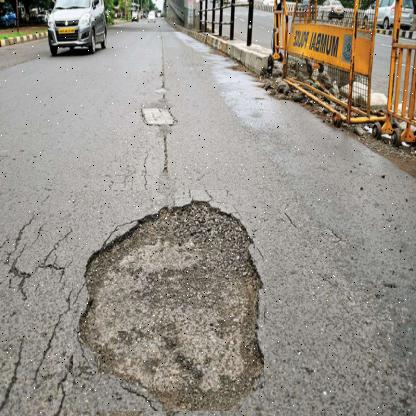pothole: (72, 190, 264, 412)
